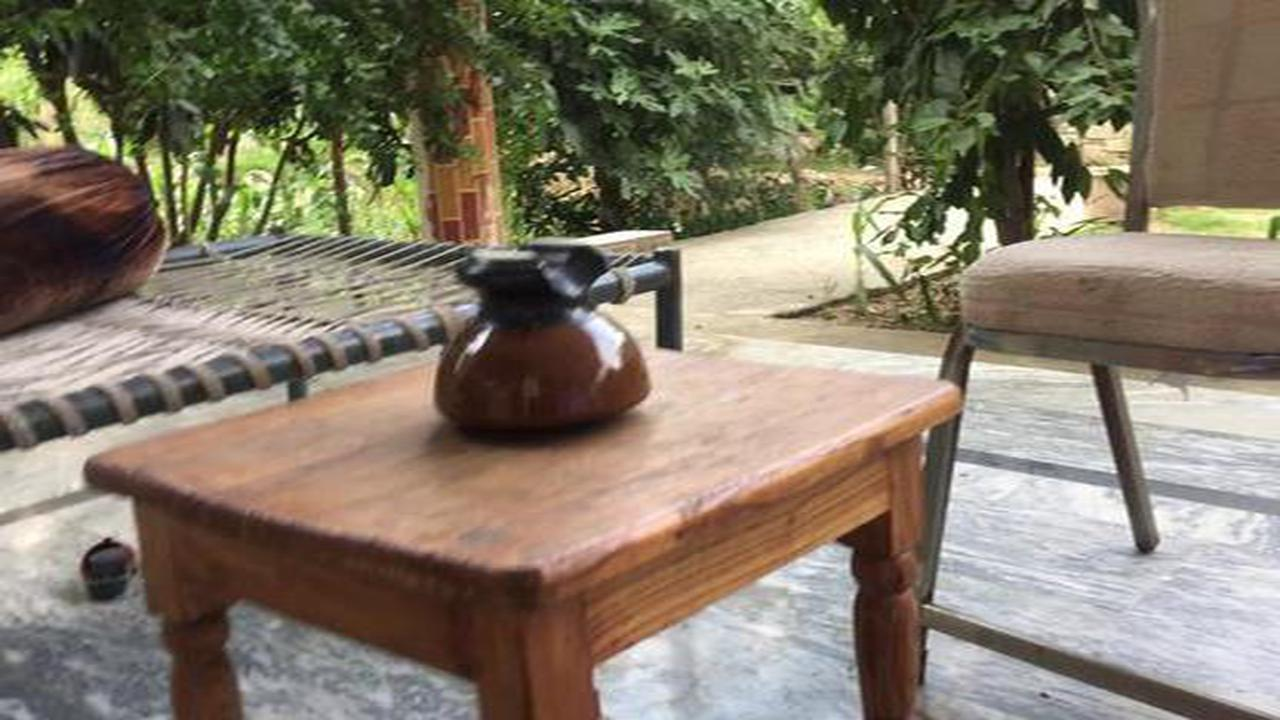insulator_pin: (416, 229, 684, 451)
